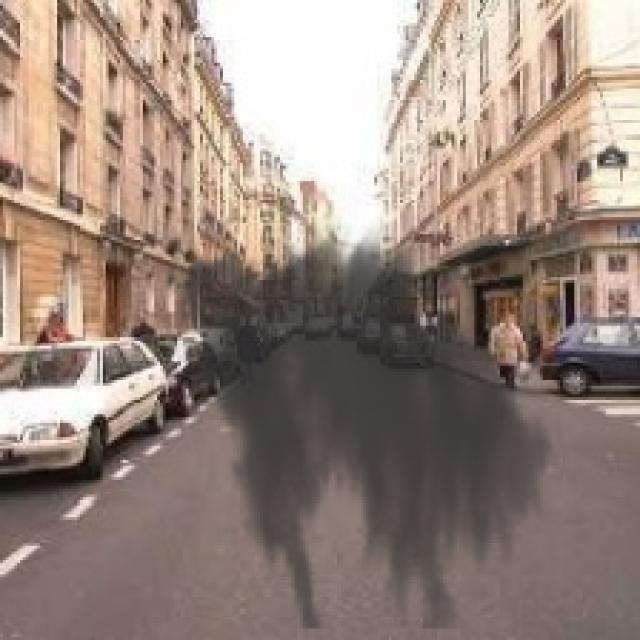Smoke: (157, 214, 566, 629)
